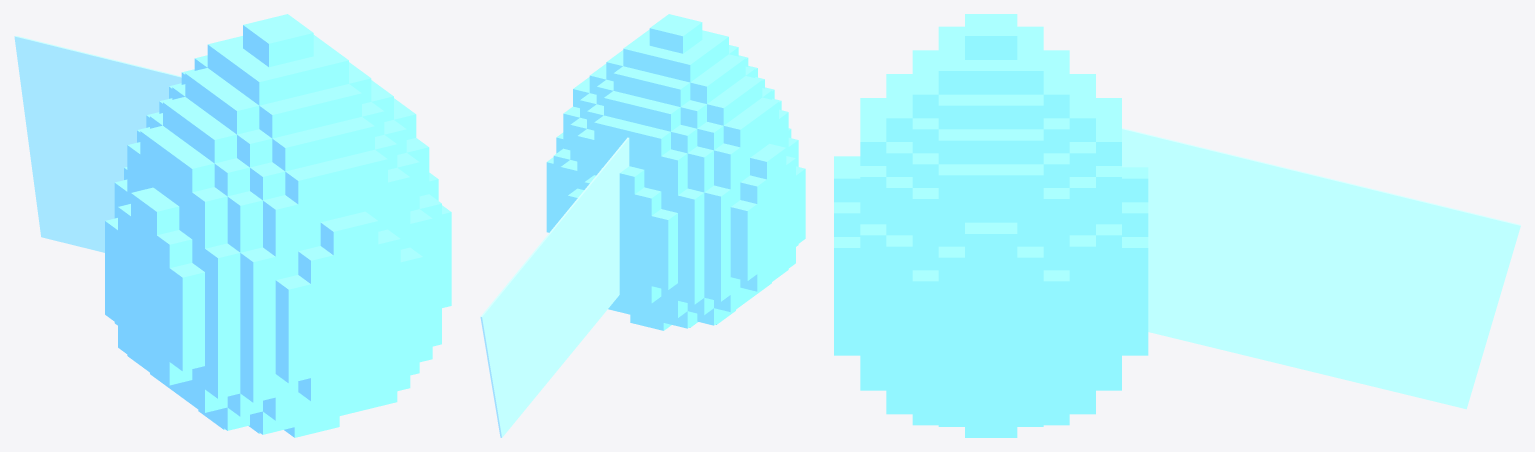
The model's file is Comet_Egg.glb.
3 views of the same model, side by side, from view 1: azimuth 30°, elevation 25°; view 2: azimuth 150°, elevation 25°; view 3: azimuth 270°, elevation 25° (orthographic). The views are drawn at different scales.
Parts seen in each view (by area): view 1: Cube_copy_copy_copy_copy_copy_copy_copy_copy_copy_copy_copy_ (×67), Cube_copy_copy_copy_copy_copy_copy_copy_copy_20 copy, Cube_copy_copy_copy_copy_copy_5, Cube_copy_copy_copy_6, Cube_copy_1, Cube_copy_copy_copy, Cube_copy_4, Cube_copy_copy_copy_2, Cube_copy_copy_copy_copy_copy_copy_copy_copy_copy, Cube_copy_copy_copy_9, Cube_copy_copy_copy_copy_copy_8, Cube_copy_copy_copy_copy_copy_1 (+44 smaller); view 2: Cube_copy_copy_copy_copy_copy_copy_copy_copy_copy_copy_copy_ (×56), Cube_copy_copy_copy_copy_copy_copy_copy_copy_20 copy, Cube_copy_copy_4, Cube_copy_copy_copy_20, Cube, Cube_copy_copy_1, Cube_copy_copy_copy_copy_copy_17, Cube_copy_copy_copy_copy_copy_copy_copy_25, Cube_copy_copy_copy_copy_copy_15, Cube_copy_copy_copy_copy_1, Cube_copy_copy_copy_3, Cube_copy_copy_copy_copy_copy (+18 smaller); view 3: Cube_copy_copy_copy_copy_copy_copy_copy_copy_20 copy, Cube_copy_copy_copy_copy_copy_copy_copy_copy_copy_copy_copy_ (×52), Cube_copy_copy_12, Cube_copy_copy_copy_copy_4, Cube_copy_copy_copy_copy_copy_copy_12, Cube_copy_copy_copy_13, Cube_copy_copy_copy_copy_9, Cube_copy_copy_copy_copy_copy_copy_19, Cube_copy_copy_copy_copy_15, Cube_copy_5, Cube_copy_copy_8, Cube_copy_copy_copy_copy_6 (+56 smaller).
Part boxes in pixels (x1=…): Cube_copy_copy_copy_copy_copy_copy_copy_copy_copy_copy_copy_ (×67): x1=127, y1=19, x2=441, y2=434; Cube_copy_copy_copy_copy_copy_copy_copy_copy_20 copy: x1=14, y1=36, x2=181, y2=252; Cube_copy_copy_copy_copy_copy_5: x1=205, y1=243, x2=240, y2=281; Cube_copy_copy_copy_6: x1=320, y1=217, x2=355, y2=255; Cube_copy_1: x1=157, y1=230, x2=192, y2=267; Cube_copy_copy_copy: x1=144, y1=197, x2=179, y2=235; Cube_copy_4: x1=298, y1=246, x2=333, y2=284; Cube_copy_copy_copy_2: x1=169, y1=263, x2=204, y2=300; Cube_copy_copy_copy_copy_copy_copy_copy_copy_copy: x1=192, y1=187, x2=227, y2=225; Cube_copy_copy_copy_9: x1=275, y1=275, x2=310, y2=312; Cube_copy_copy_copy_copy_copy_8: x1=275, y1=327, x2=310, y2=359; Cube_copy_copy_copy_copy_copy_1: x1=169, y1=315, x2=204, y2=347; Cube_copy_copy_copy_copy_copy_copy_copy_copy_copy_copy_copy_ (×56): x1=560, y1=18, x2=778, y2=328; Cube_copy_copy_copy_copy_copy_copy_copy_copy_20 copy: x1=480, y1=137, x2=629, y2=437; Cube_copy_copy_4: x1=730, y1=200, x2=757, y2=228; Cube_copy_copy_copy_20: x1=634, y1=187, x2=661, y2=215; Cube: x1=740, y1=175, x2=766, y2=203; Cube_copy_copy_1: x1=750, y1=151, x2=776, y2=179; Cube_copy_copy_copy_copy_copy_17: x1=651, y1=209, x2=677, y2=237; Cube_copy_copy_copy_copy_copy_copy_copy_25: x1=678, y1=188, x2=704, y2=216; Cube_copy_copy_copy_copy_copy_15: x1=619, y1=166, x2=644, y2=194; Cube_copy_copy_copy_copy_1: x1=730, y1=239, x2=757, y2=263; Cube_copy_copy_copy_3: x1=730, y1=222, x2=757, y2=245; Cube_copy_copy_copy_copy_copy: x1=730, y1=257, x2=757, y2=281; Cube_copy_copy_copy_copy_copy_copy_copy_copy_20 copy: x1=1122, y1=128, x2=1520, y2=409; Cube_copy_copy_copy_copy_copy_copy_copy_copy_copy_copy_copy_ (×52): x1=860, y1=25, x2=1121, y2=412; Cube_copy_copy_12: x1=1017, y1=246, x2=1043, y2=281; Cube_copy_copy_copy_copy_4: x1=834, y1=167, x2=860, y2=202; Cube_copy_copy_copy_copy_copy_copy_12: x1=860, y1=224, x2=886, y2=259; Cube_copy_copy_copy_13: x1=965, y1=222, x2=991, y2=257; Cube_copy_copy_copy_copy_9: x1=991, y1=222, x2=1017, y2=257; Cube_copy_copy_copy_copy_copy_copy_19: x1=1069, y1=235, x2=1095, y2=270; Cube_copy_copy_copy_copy_15: x1=1122, y1=167, x2=1148, y2=202; Cube_copy_5: x1=938, y1=246, x2=964, y2=281; Cube_copy_copy_8: x1=834, y1=202, x2=860, y2=236; Cube_copy_copy_copy_copy_6: x1=834, y1=237, x2=860, y2=271.
Bounding box in the file's own units: 1.2 × 1.62 × 2.62.
